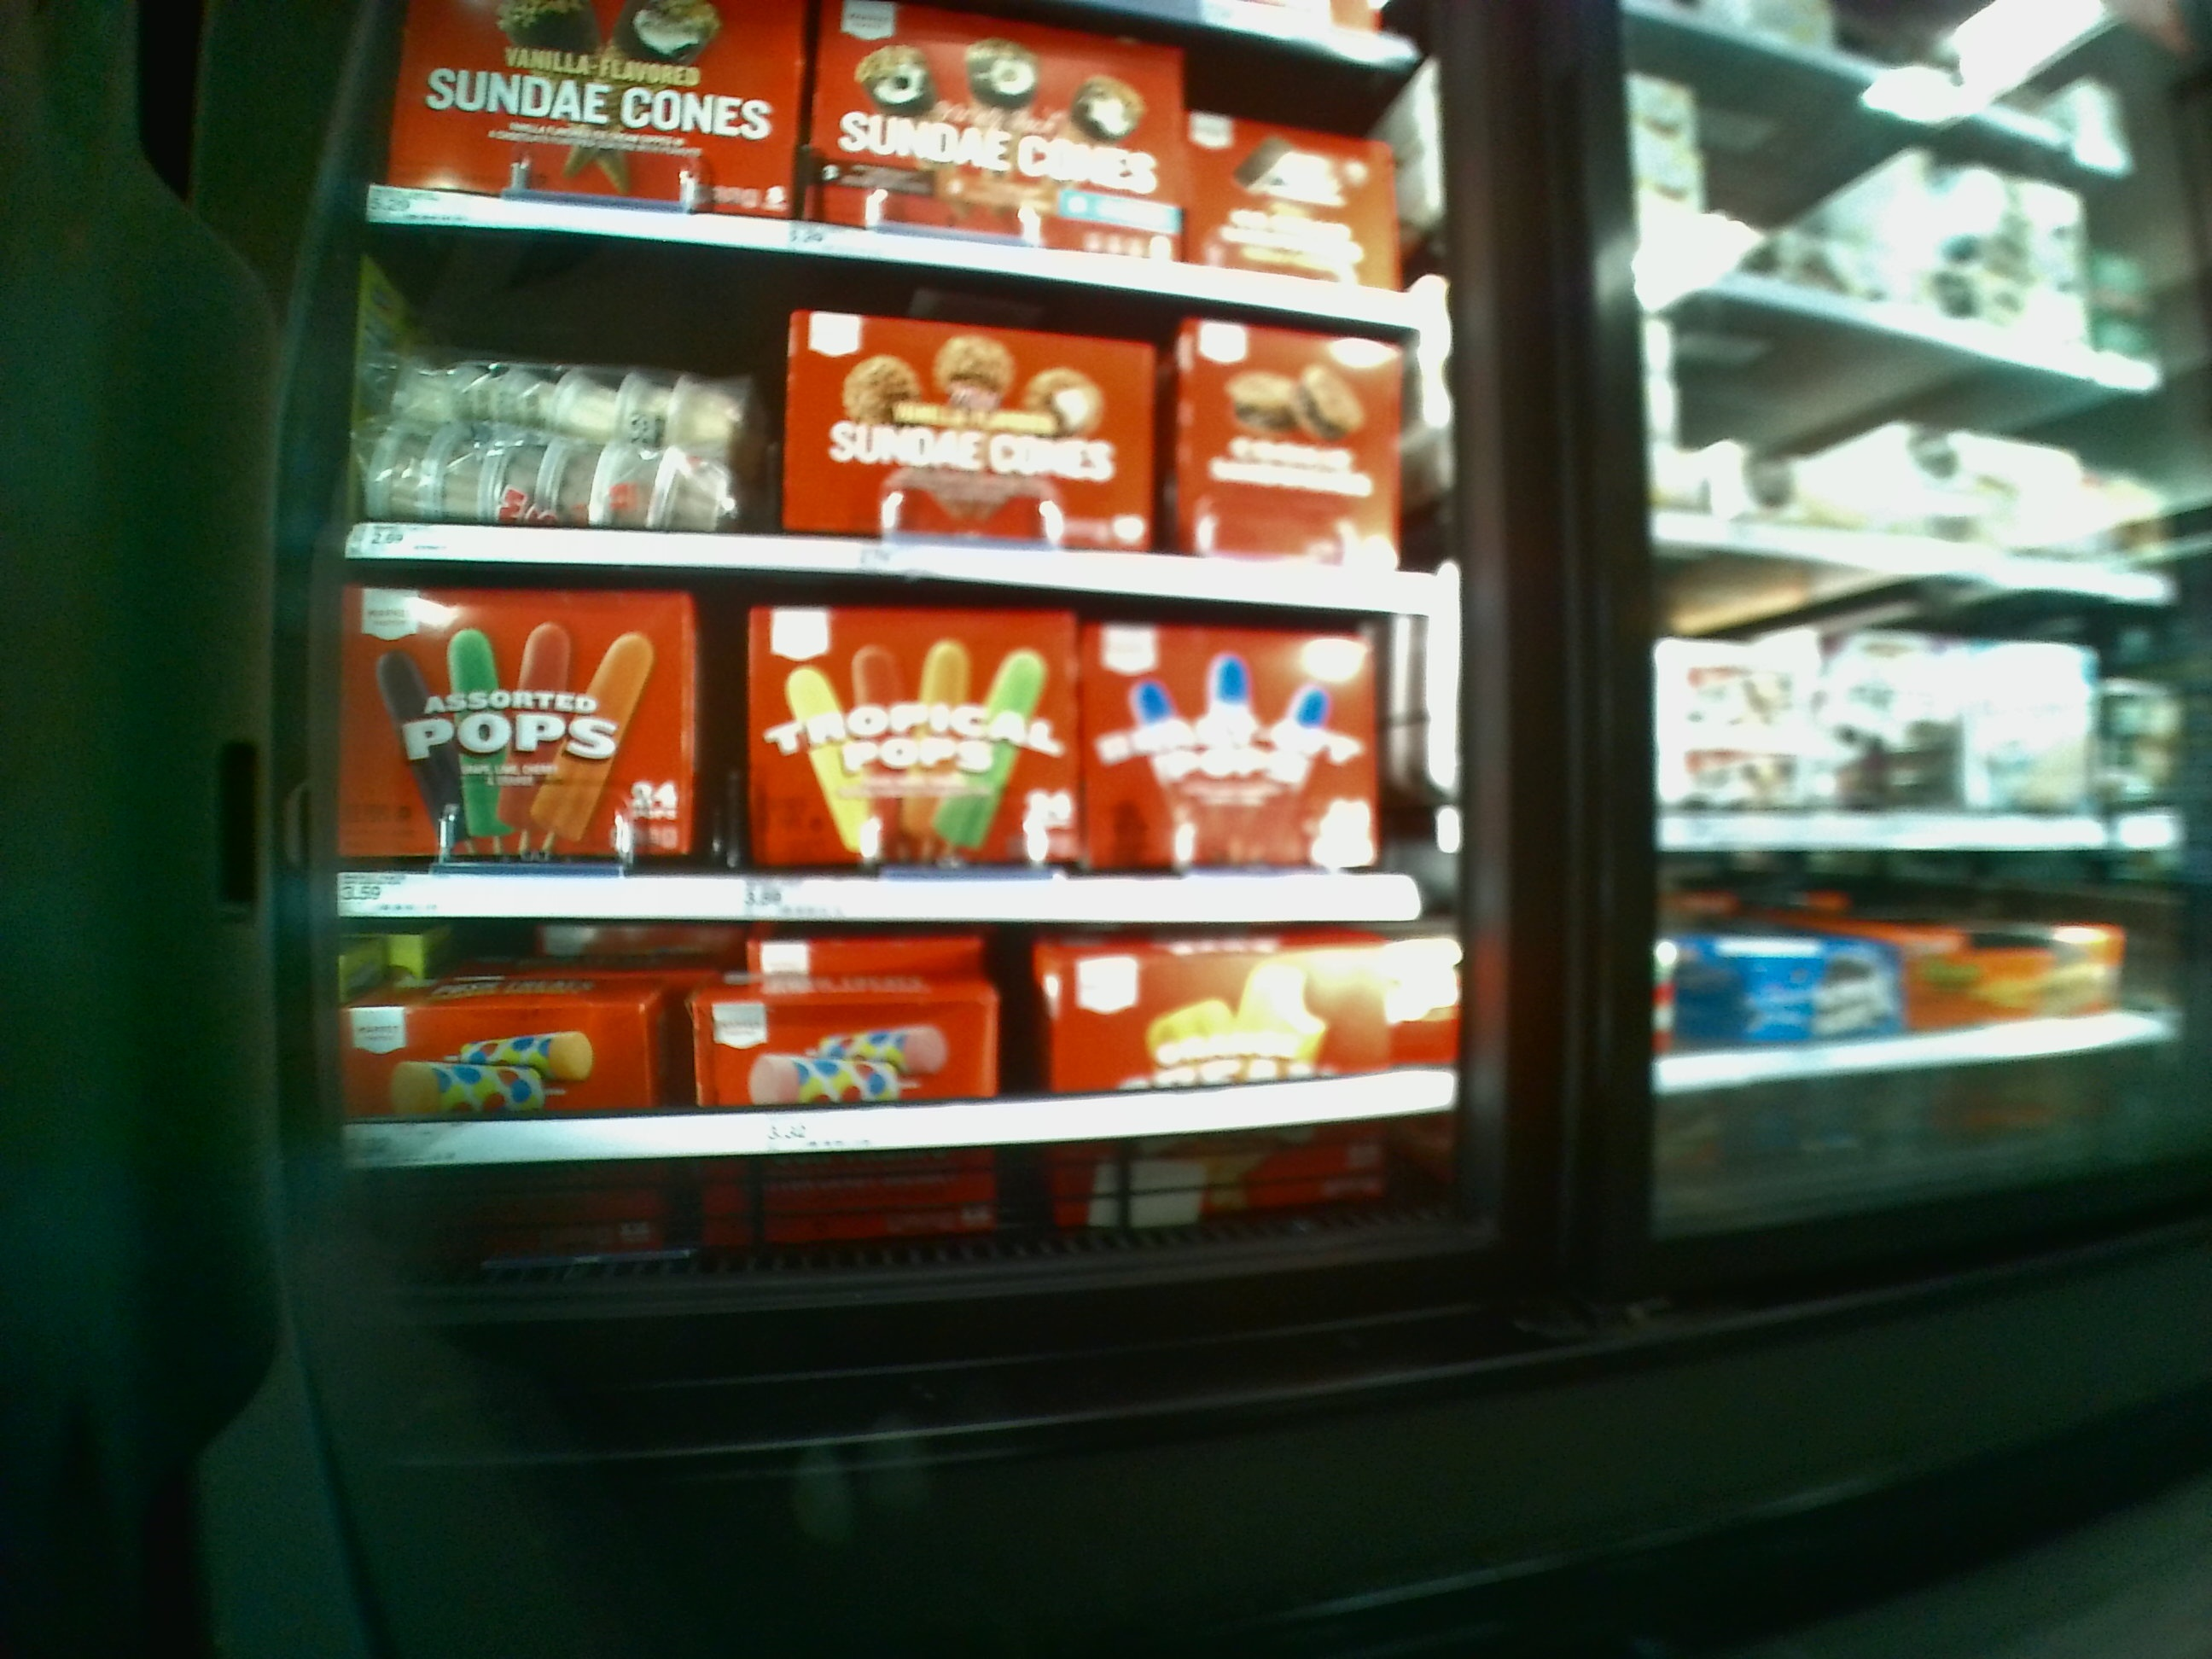shelf: (343, 227, 1435, 589), (329, 587, 1439, 924), (331, 925, 1482, 1246)
